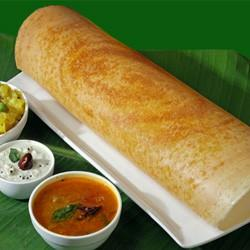CoconutChutney: (0, 144, 52, 183)
Dosa: (15, 5, 250, 232)
